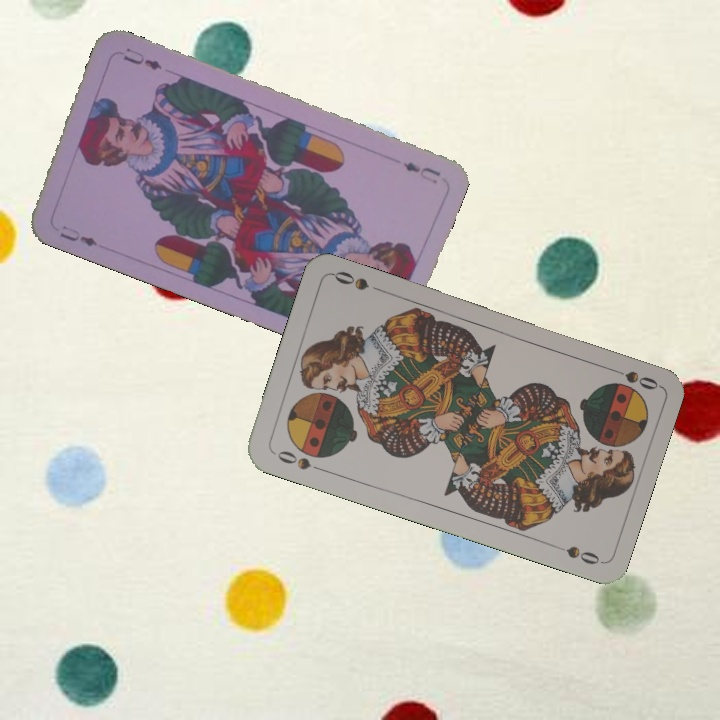EU: (399, 157, 443, 186), (55, 221, 100, 249)
SO: (603, 362, 661, 393), (269, 446, 327, 474)
